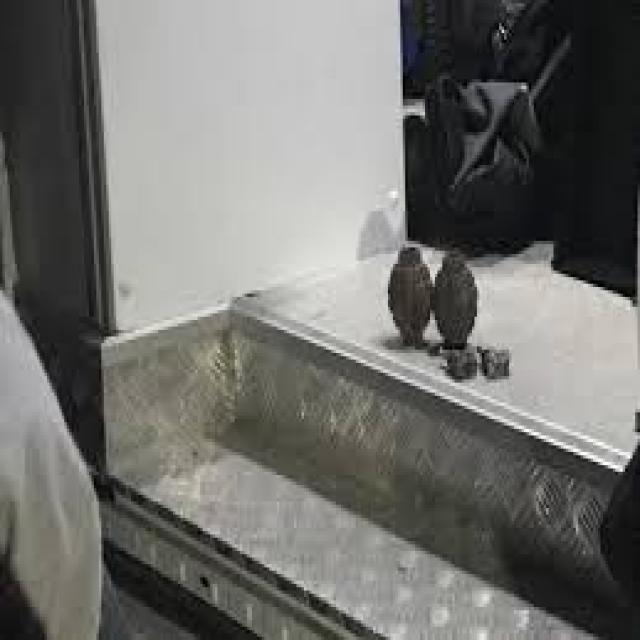grenade: (433, 250, 482, 351), (389, 245, 434, 347)
